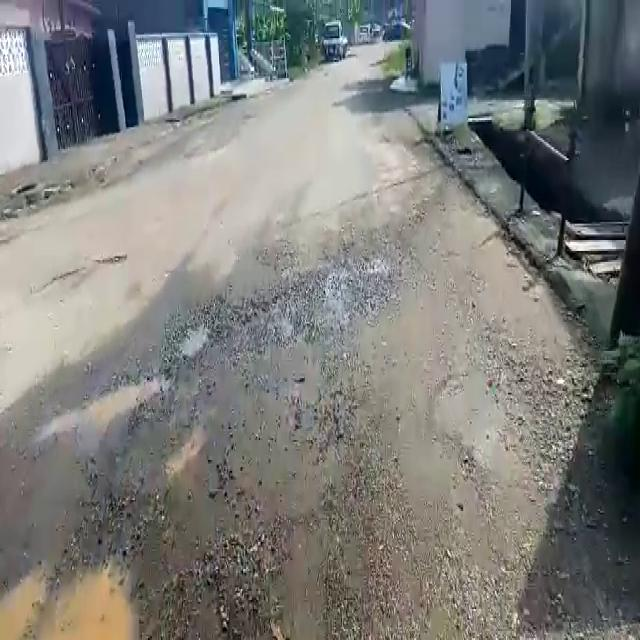Pothole: (173, 318, 210, 362)
